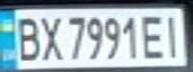1: (121, 12, 142, 60)
7: (63, 11, 84, 61)
9: (81, 12, 106, 61), (103, 12, 124, 61)
B: (9, 12, 42, 62)
E: (139, 11, 169, 60)
I: (157, 11, 184, 58)
X: (36, 11, 63, 61)
